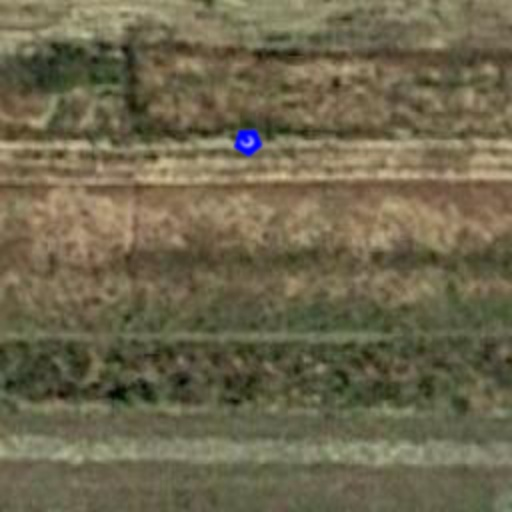pentagon: (226, 120, 270, 164)
